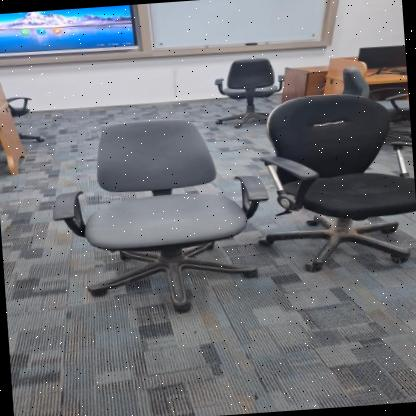chair: (36, 102, 282, 324), (256, 82, 416, 284), (205, 50, 294, 134)
